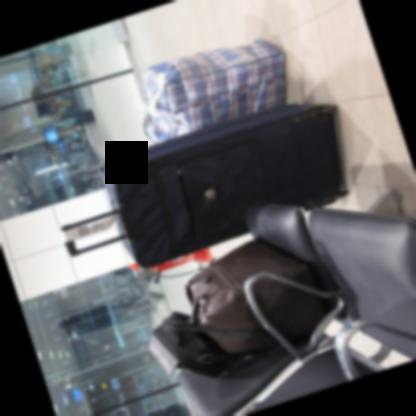handbag: (184, 235, 331, 349)
suitcase: (60, 102, 348, 267)
